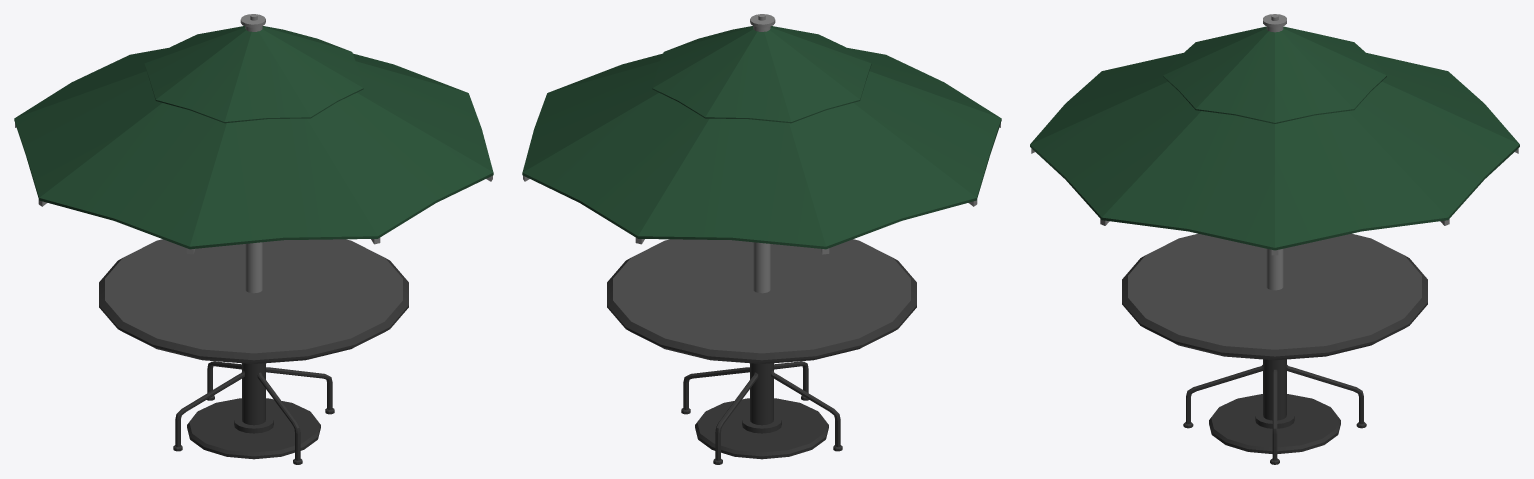
File: fbx_plaza_parasol1.fbx
The picture shows the model from 3 angles, left to right: view 1: azimuth 30°, elevation 25°; view 2: azimuth 150°, elevation 25°; view 3: azimuth 270°, elevation 25°; orthographic projection.
Parts seen in each view (by area): view 1: fbx_plaza_parasol1; view 2: fbx_plaza_parasol1; view 3: fbx_plaza_parasol1.
Part boxes in pixels (box(x1,y1,x2,y2)): fbx_plaza_parasol1: box(14, 14, 493, 464); fbx_plaza_parasol1: box(522, 14, 1001, 464); fbx_plaza_parasol1: box(1030, 14, 1519, 464).
Bounding box in the file's own units: 5.33 × 4.93 × 5.33.
Materials: 1 (1 with a texture image).
